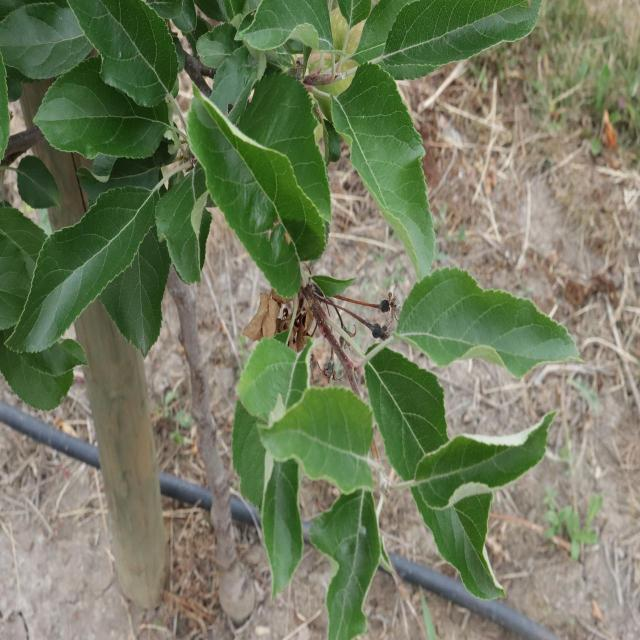-FireBlight-: (248, 278, 338, 358)
